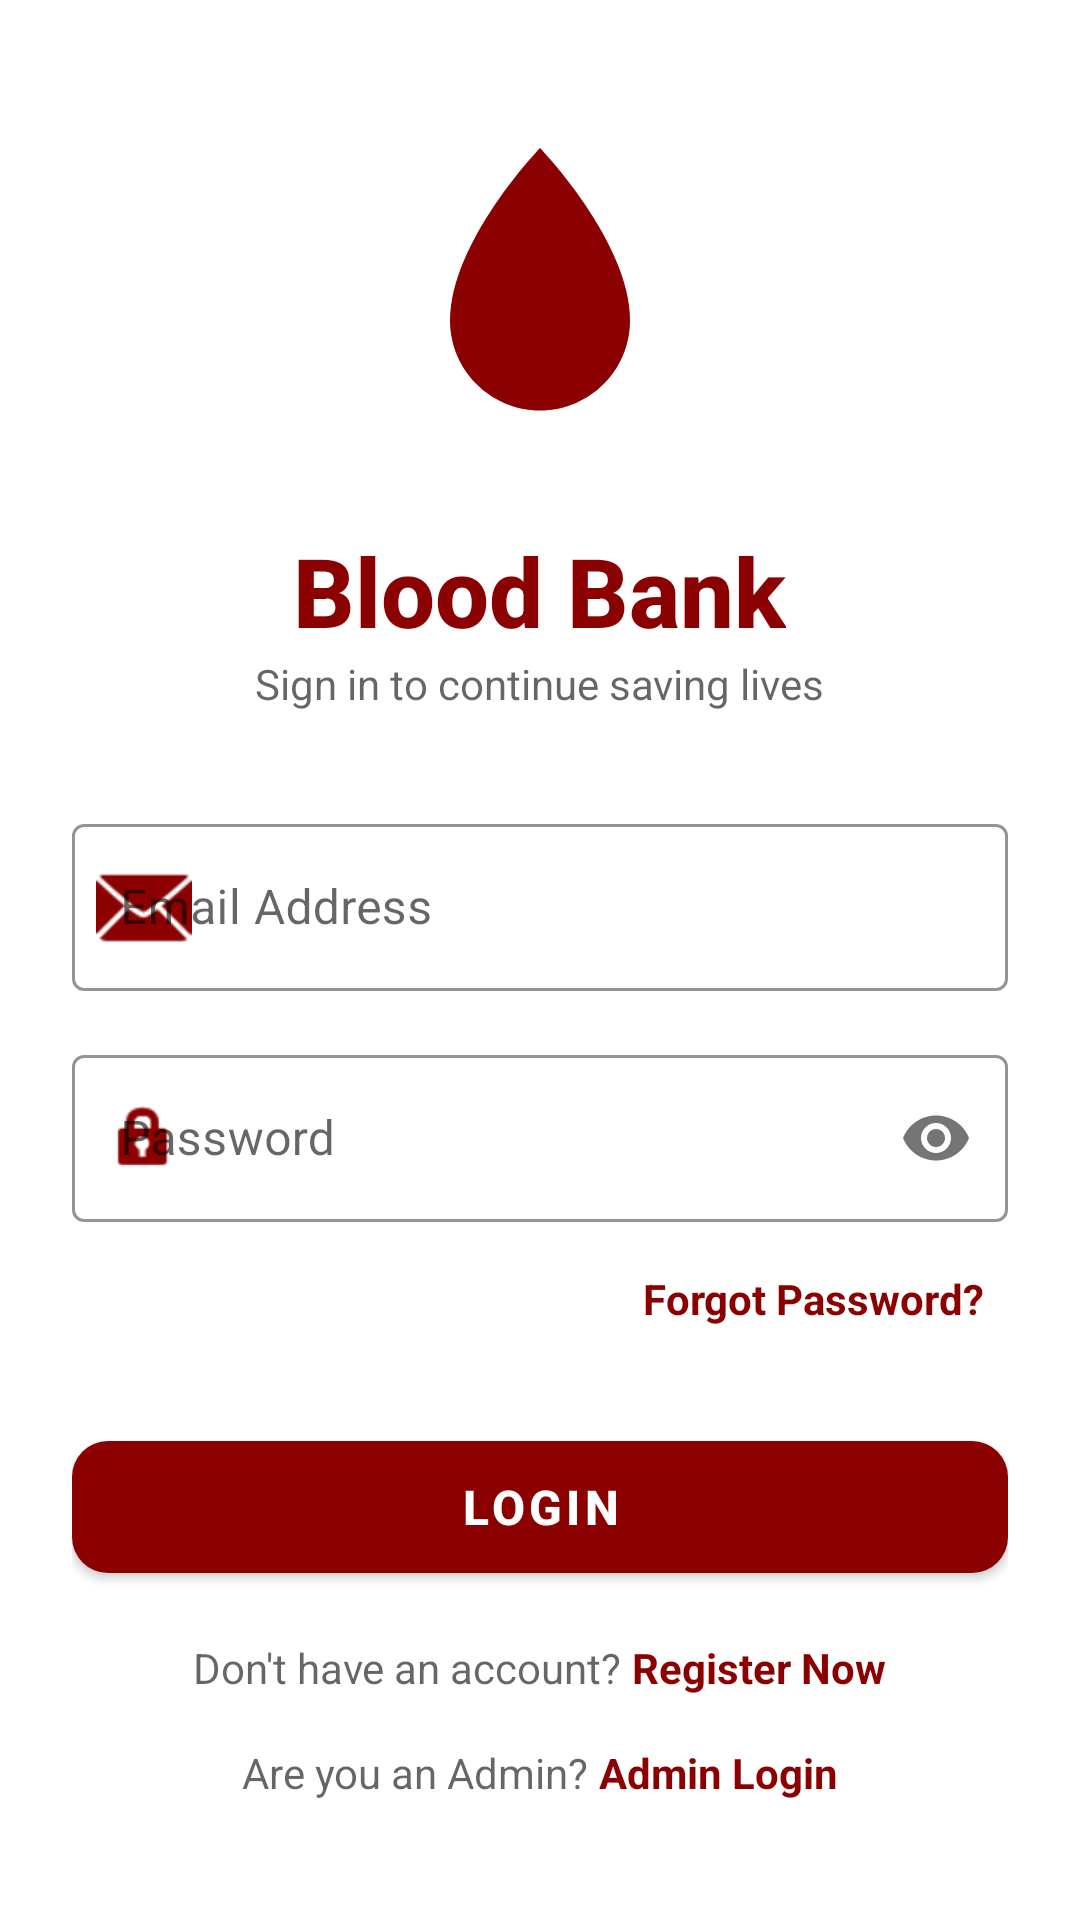

Where to tap for icons on this 1080px×1920px app screen, as (x=x, y=y):
blood drop: (x=540, y=279)
